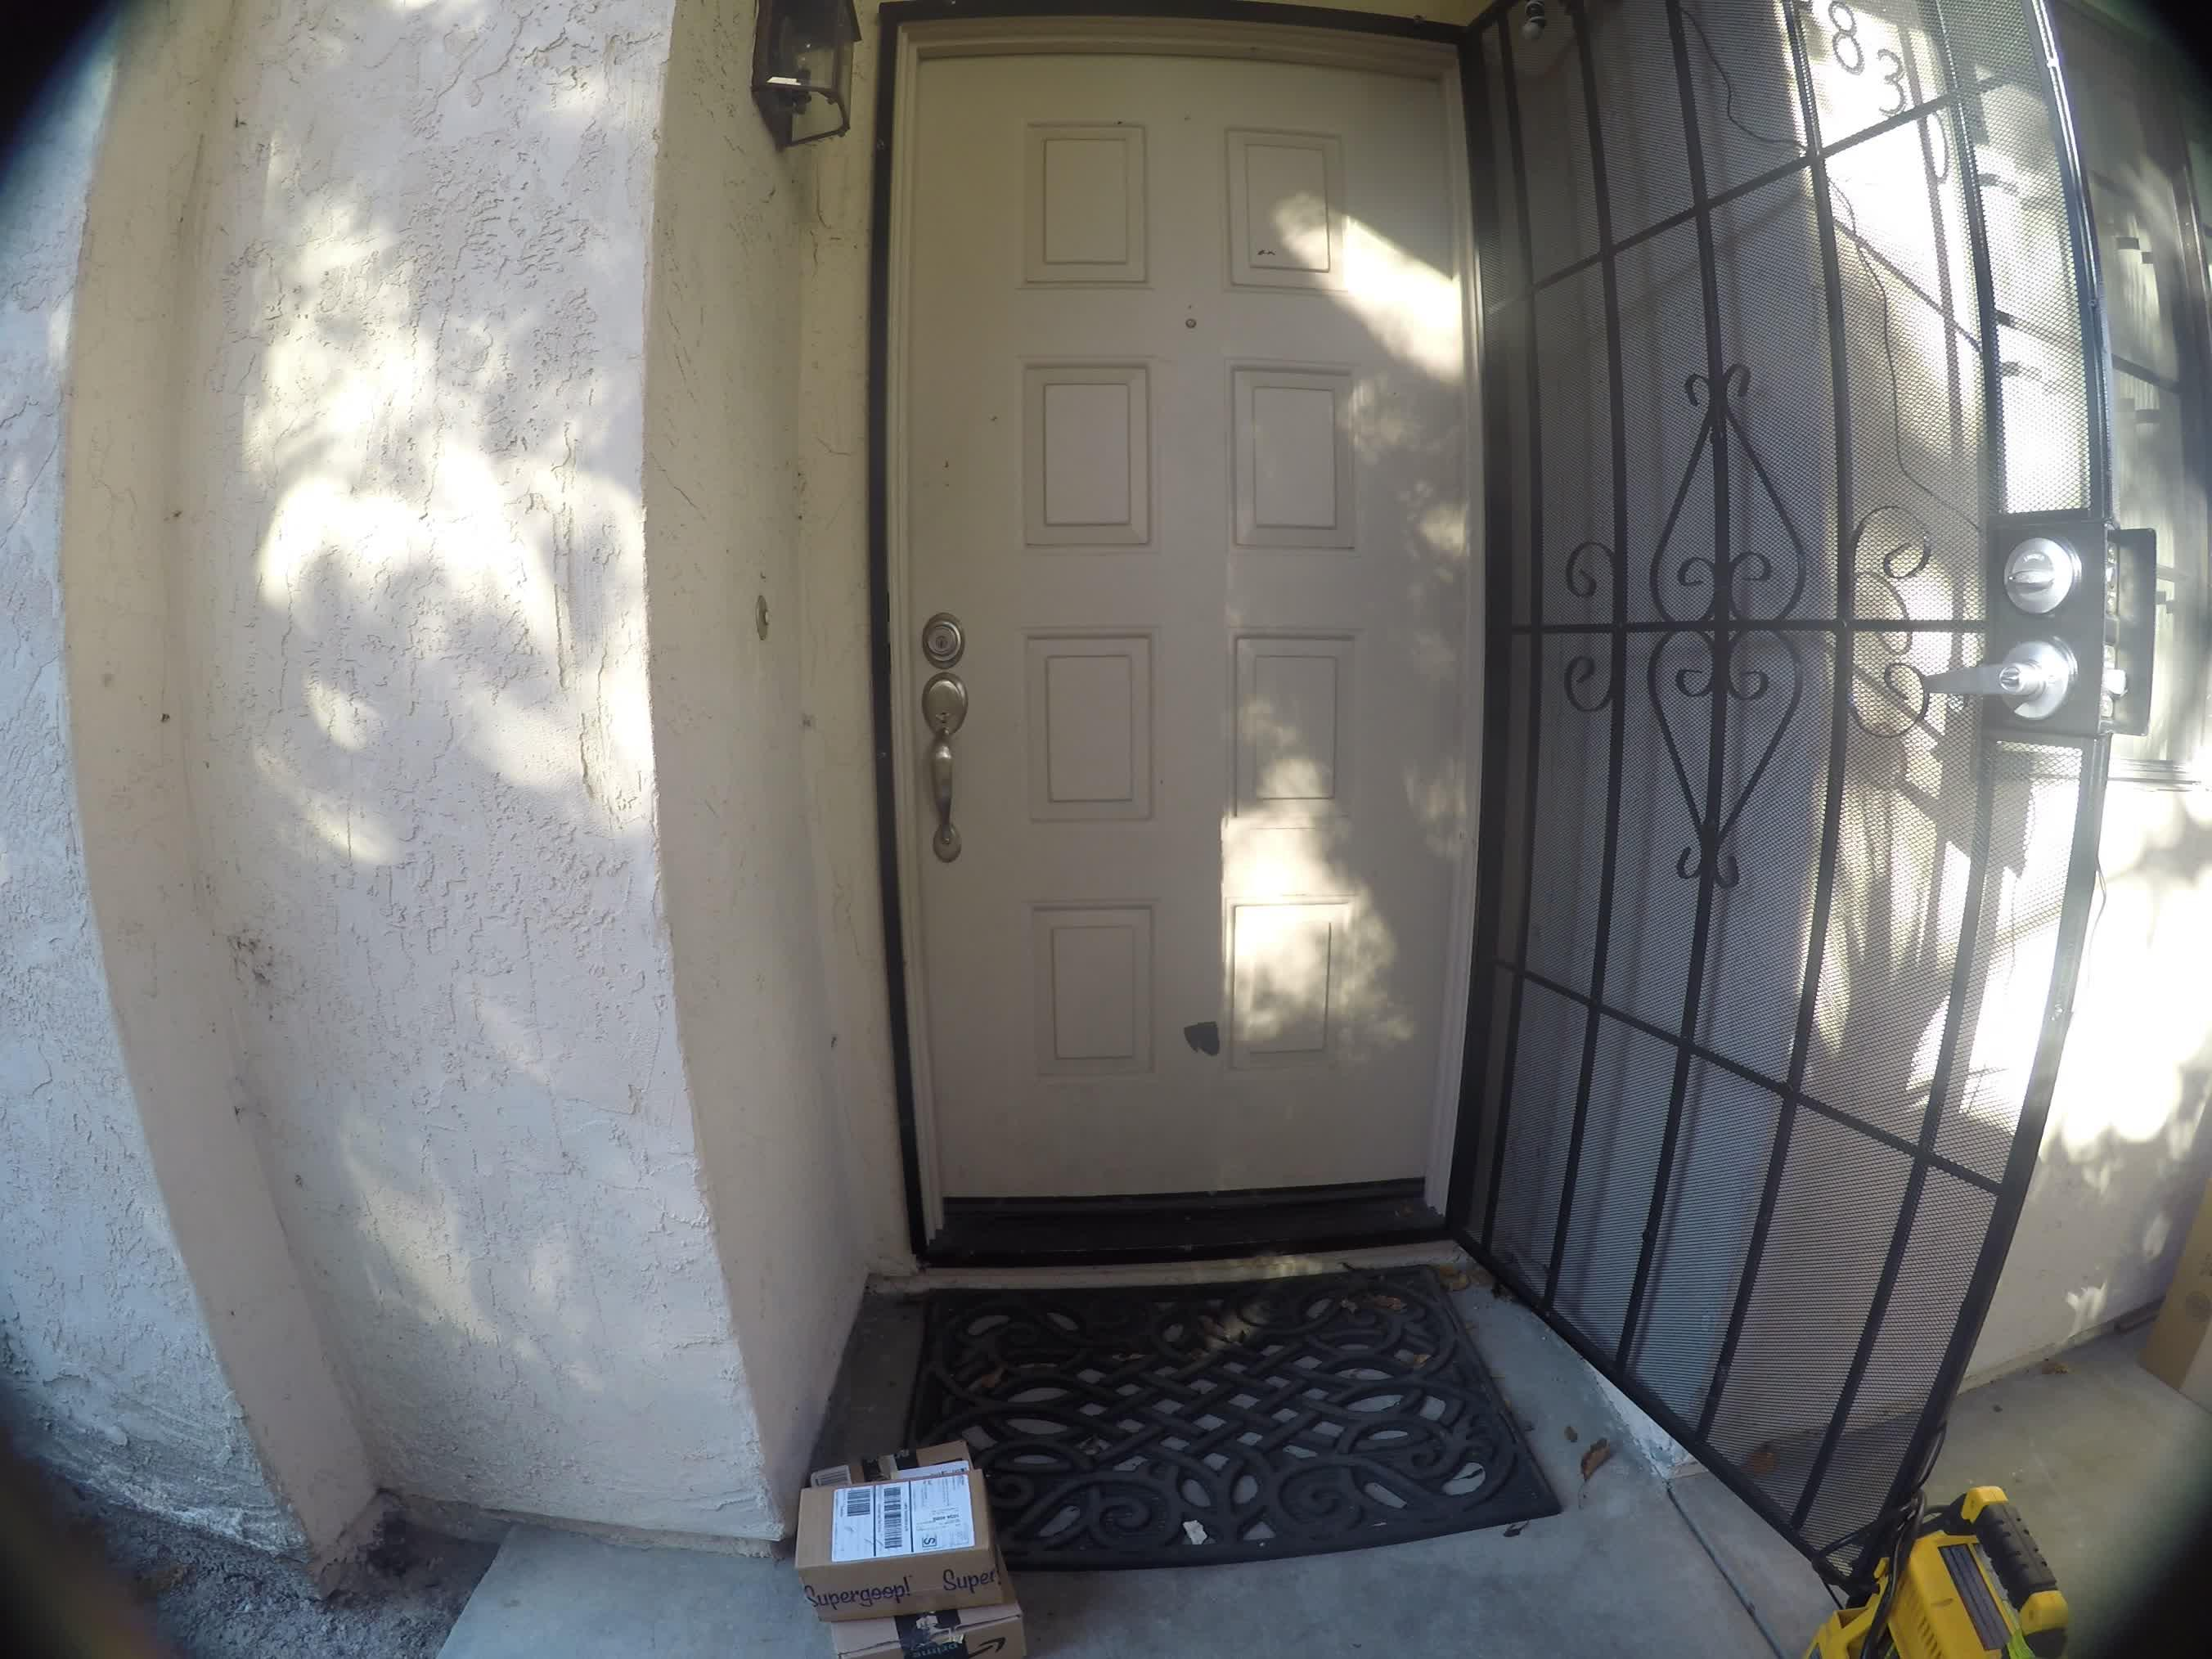box: (791, 1455, 1005, 1595)
